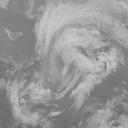cyclone: (35, 18, 98, 85)
